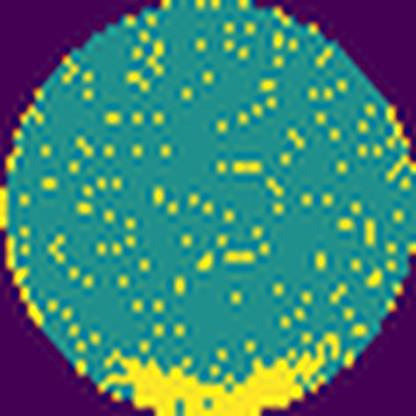Edge-Loc: (90, 341, 342, 416)
